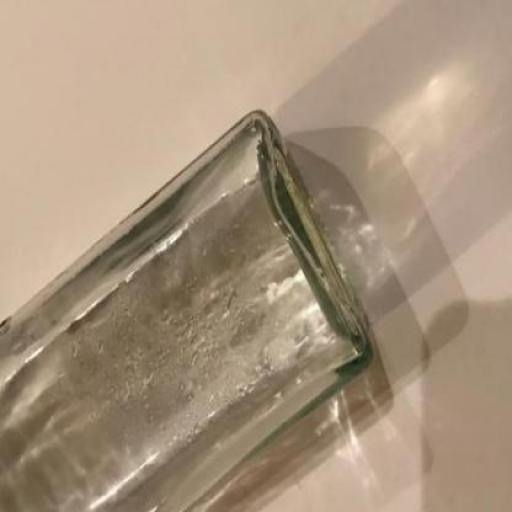glass: (0, 111, 373, 511)
